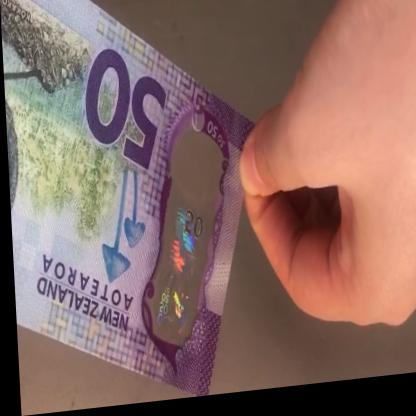50B: (144, 139, 223, 348)
